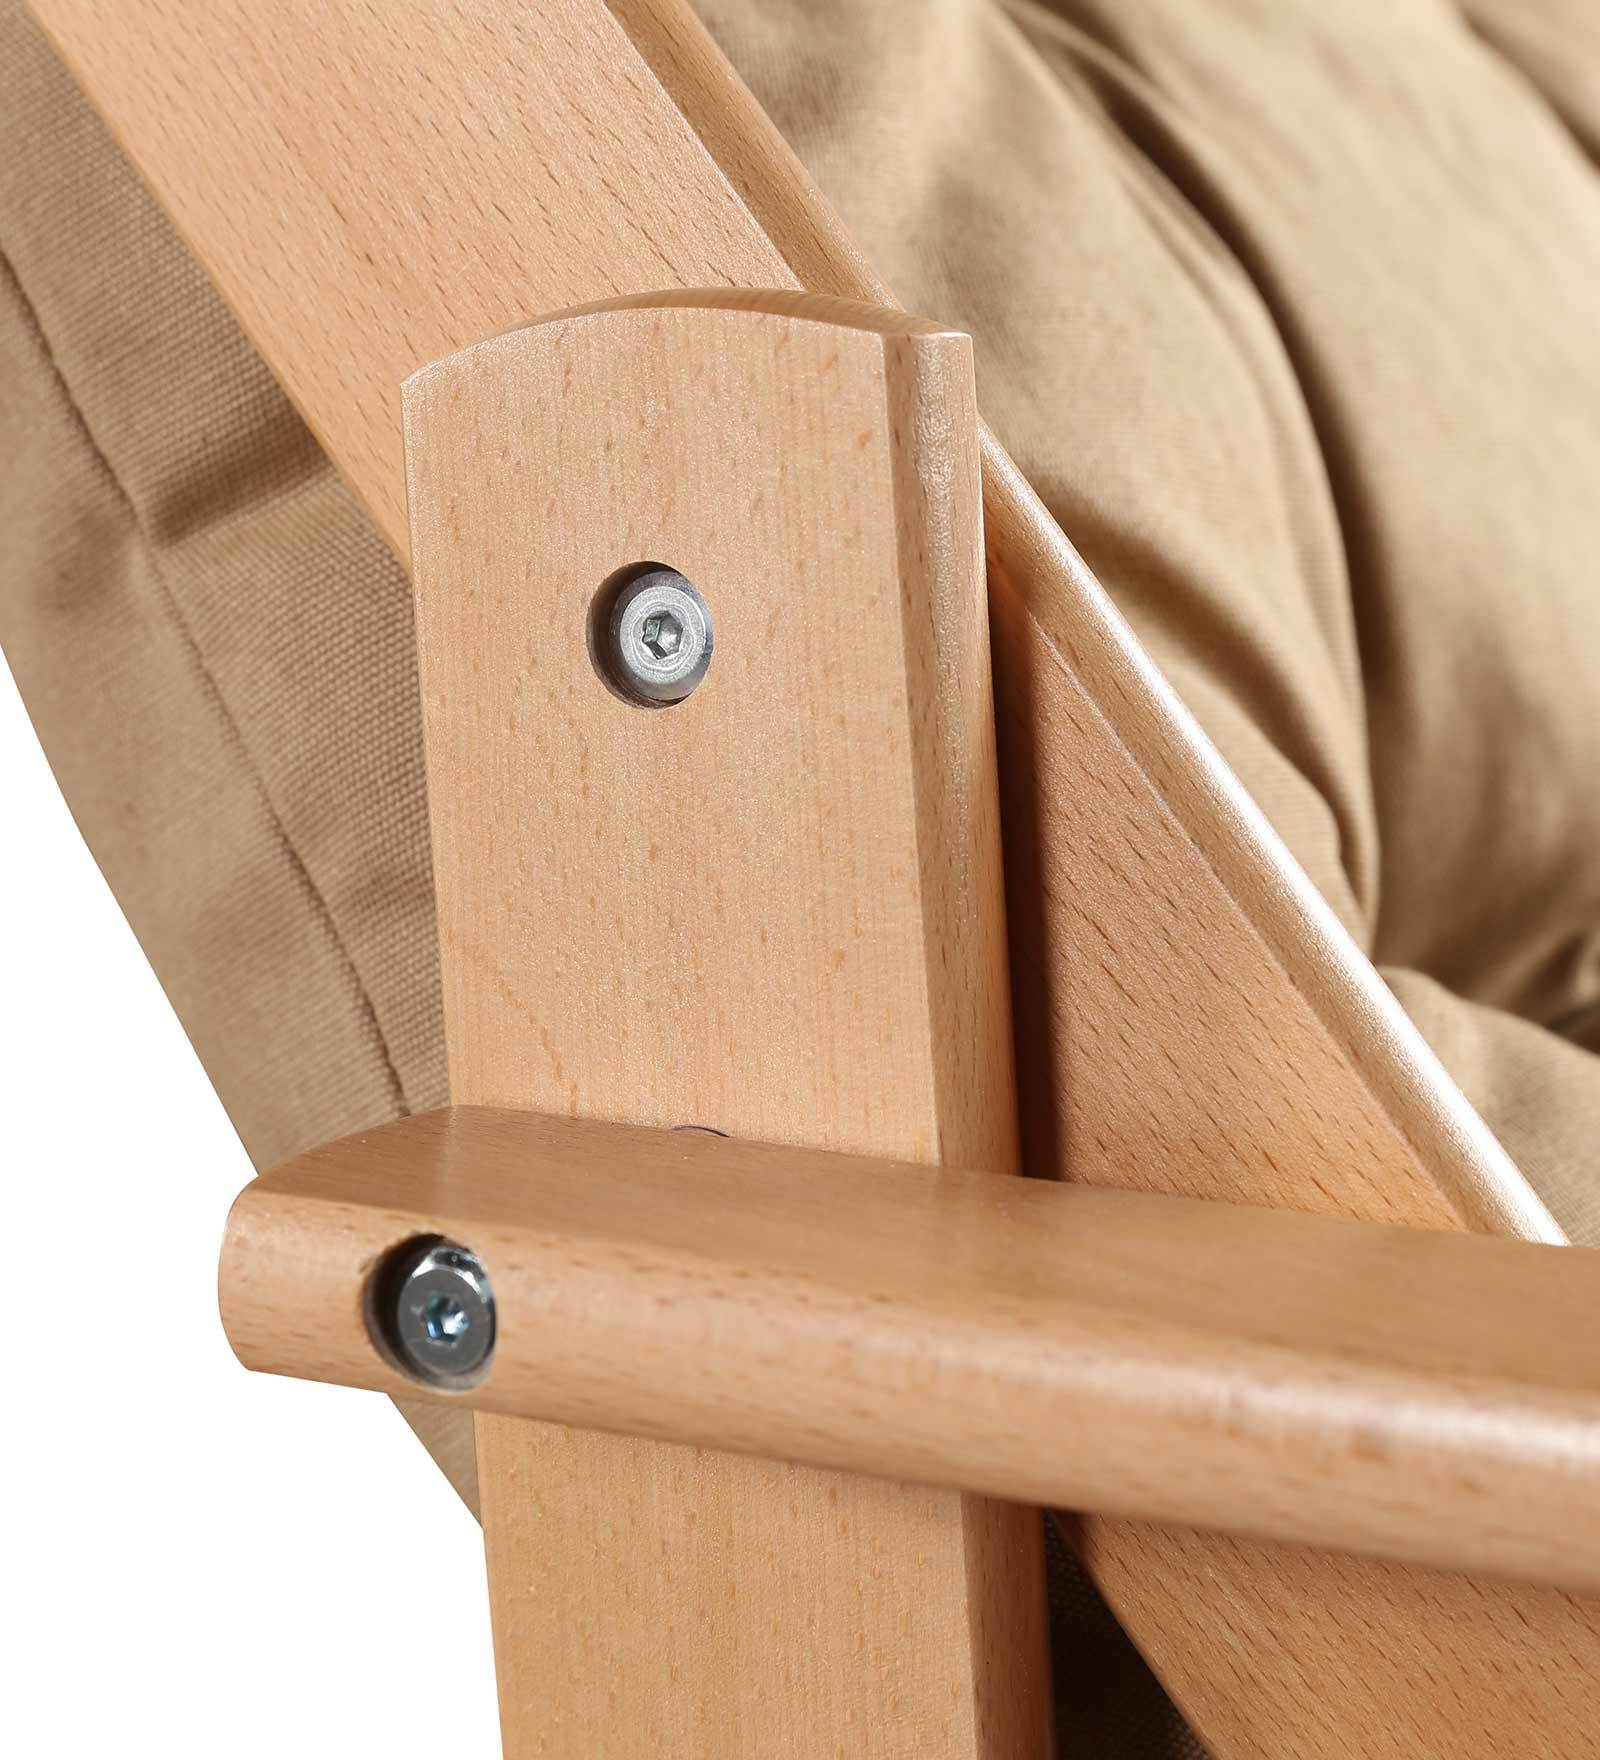Tulip Folding Chair in Beige Finish by HomeTown: (60, 40, 1516, 1732)
